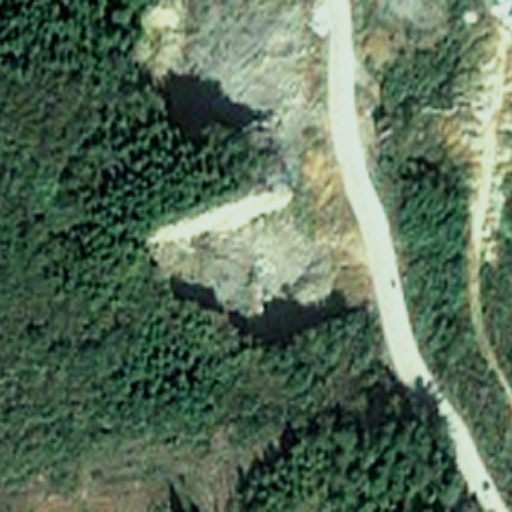landslide: (148, 180, 363, 322)
